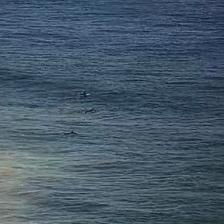surfer: (84, 108, 97, 113), (65, 130, 77, 135), (82, 91, 87, 96)
